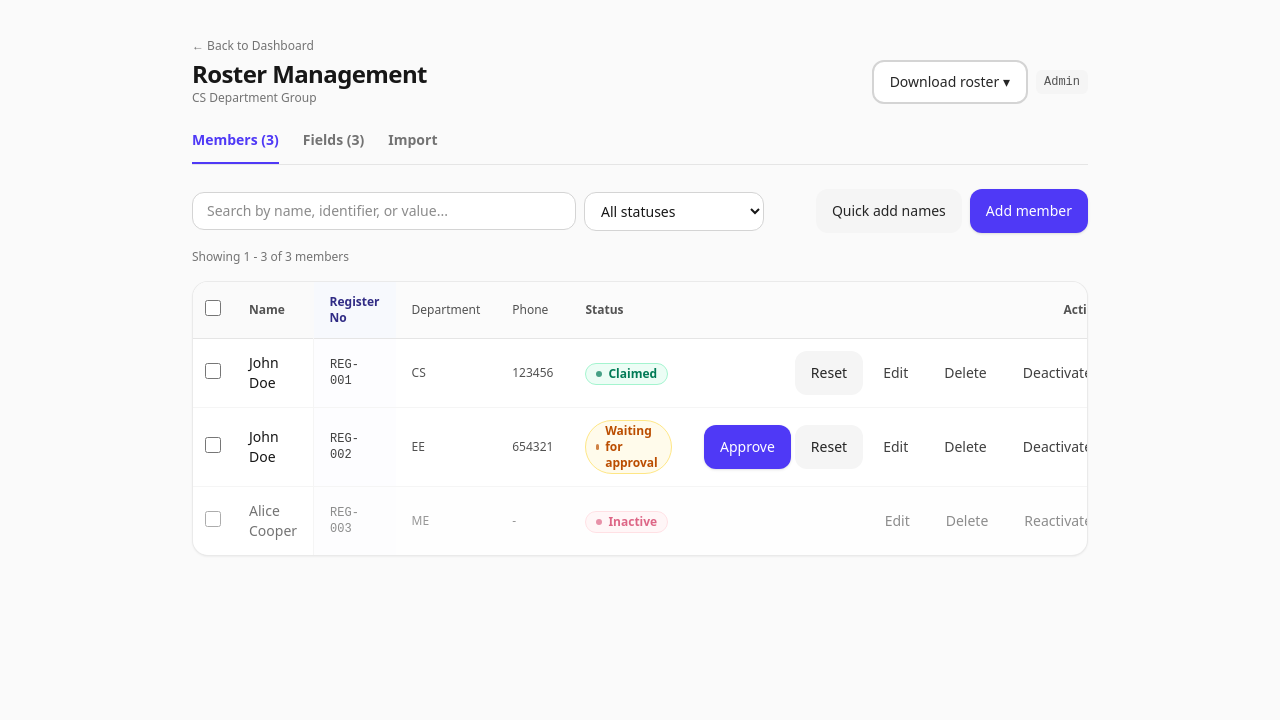
Test: RosterPage › Members Tab › add member pre-fills defaults and shows field-level errors on server rejection
Click the button "Add member".
click(1029, 211)  # box [970, 189, 1088, 233]
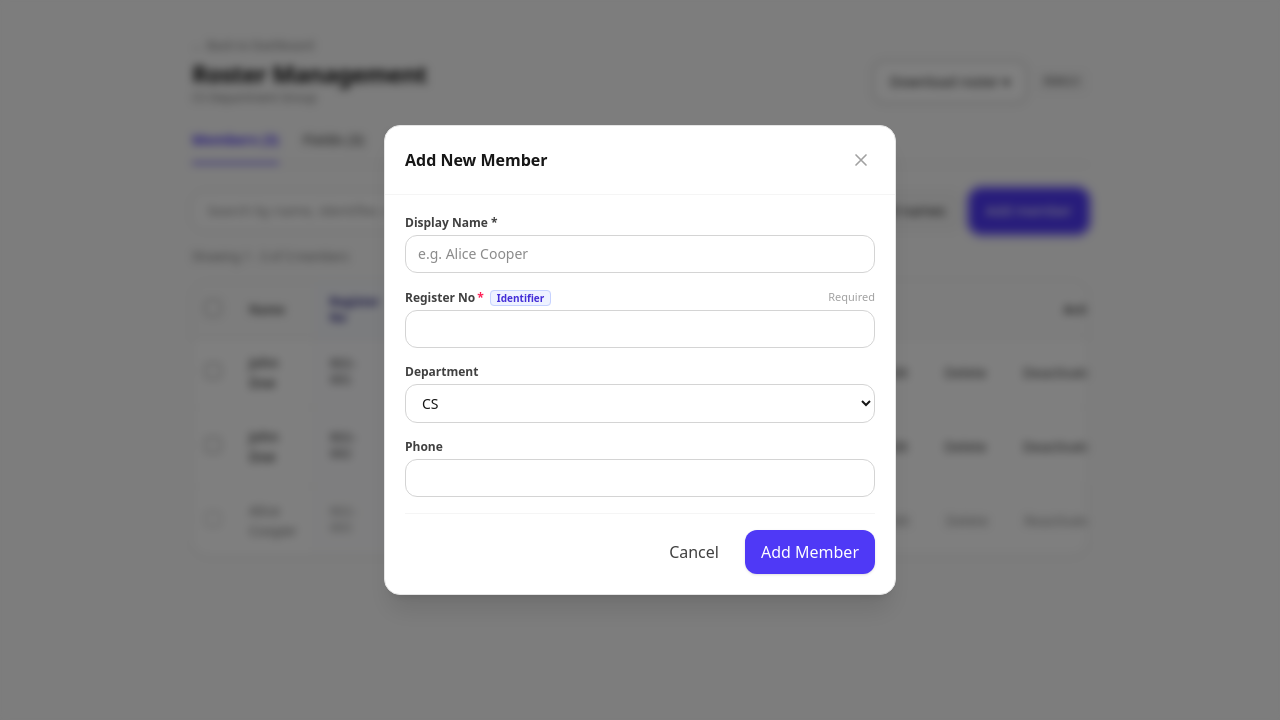
expect the heading "Add New Member" is shown: met, box [405, 148, 548, 172]
expect the dropdown labelled "Department" shows "CS": met, box [405, 384, 875, 423]
Fill name and required reg_no
Type "New Guy" into the field labelled "Display Name *".
click(640, 254); type("New Guy")  # box [405, 235, 875, 273]
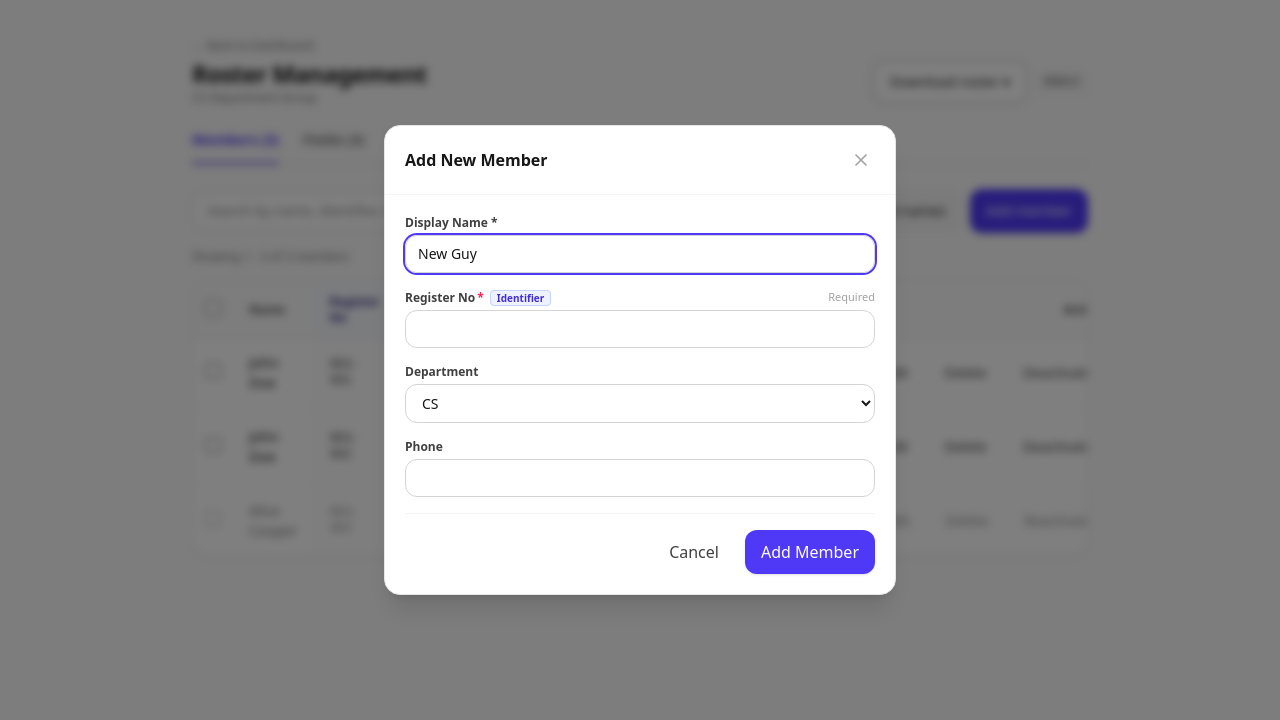
Type "REG-999" into the field labelled "Register No*Identifier".
click(640, 329); type("REG-999")  # box [405, 310, 875, 348]
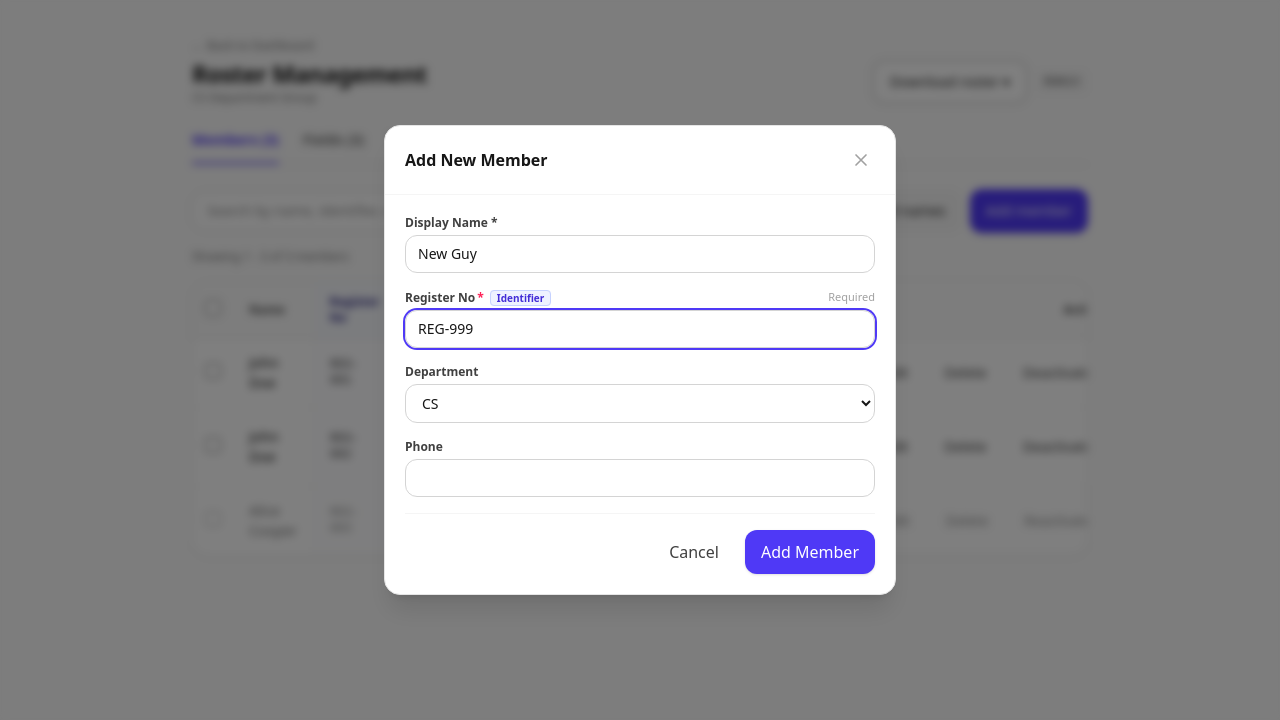
Click the button "Add Member".
click(810, 552)  # box [745, 530, 875, 574]
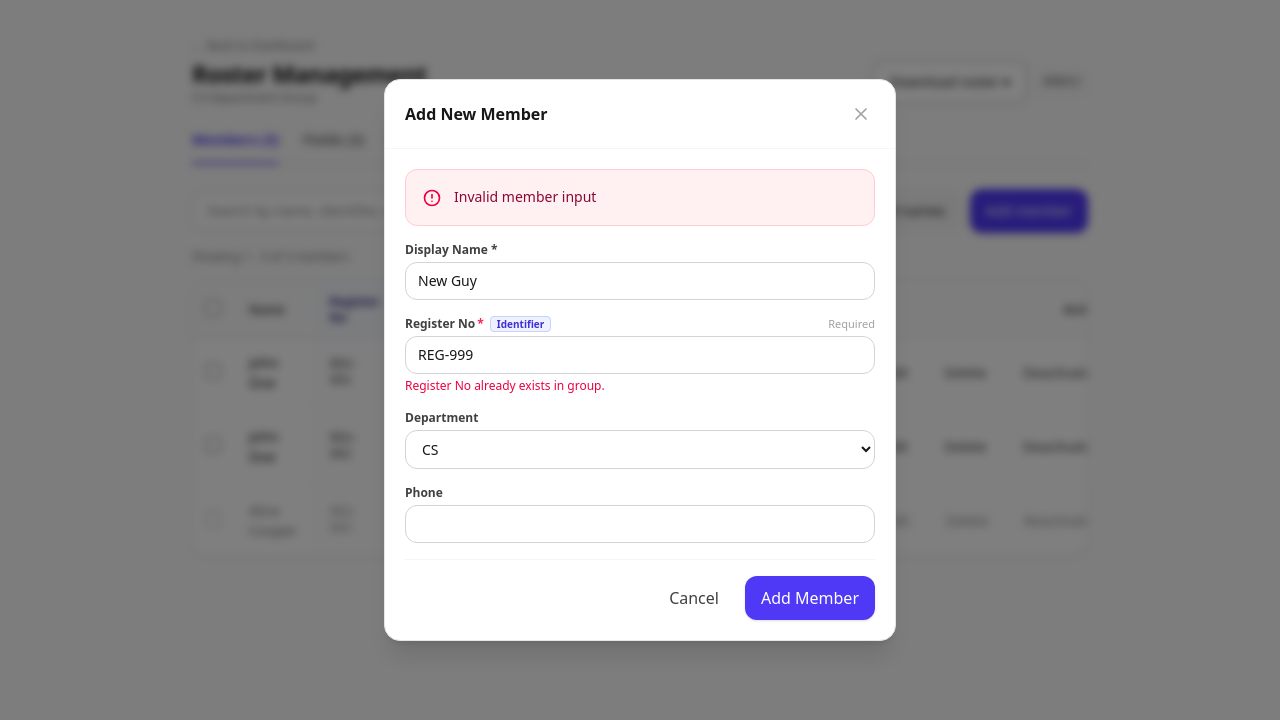
expect the text "Register No already exists in group." is shown: met, box [405, 377, 605, 394]
